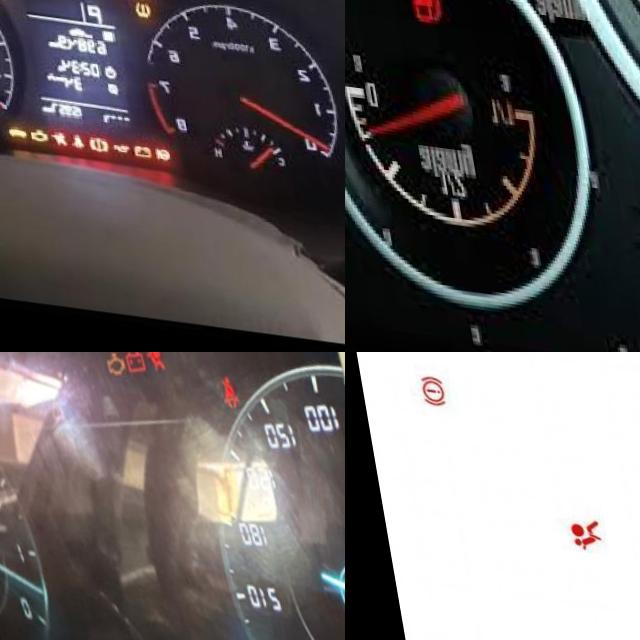Seat Belt: (211, 365, 239, 406), (58, 126, 71, 141)
